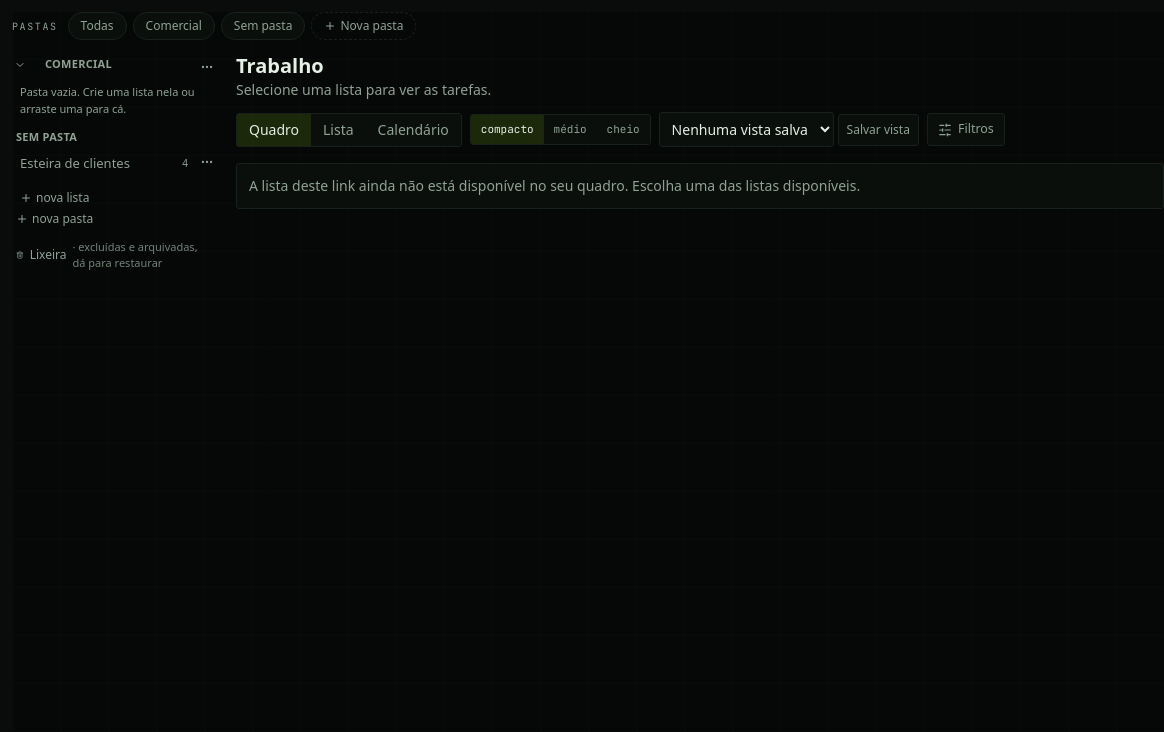
Test: trabalho importado: card único e material preservado › avisa quando a lista do link está ausente, sem abrir outra lista por engano
The width and height of the screenshot is (1164, 732).
Check: the text "A lista deste link ainda não está disponível" is shown, box [249,176,860,195]
Click the button "Esteira de clientes 4". click: coordinates (104, 163)
box: [12,150,196,177]
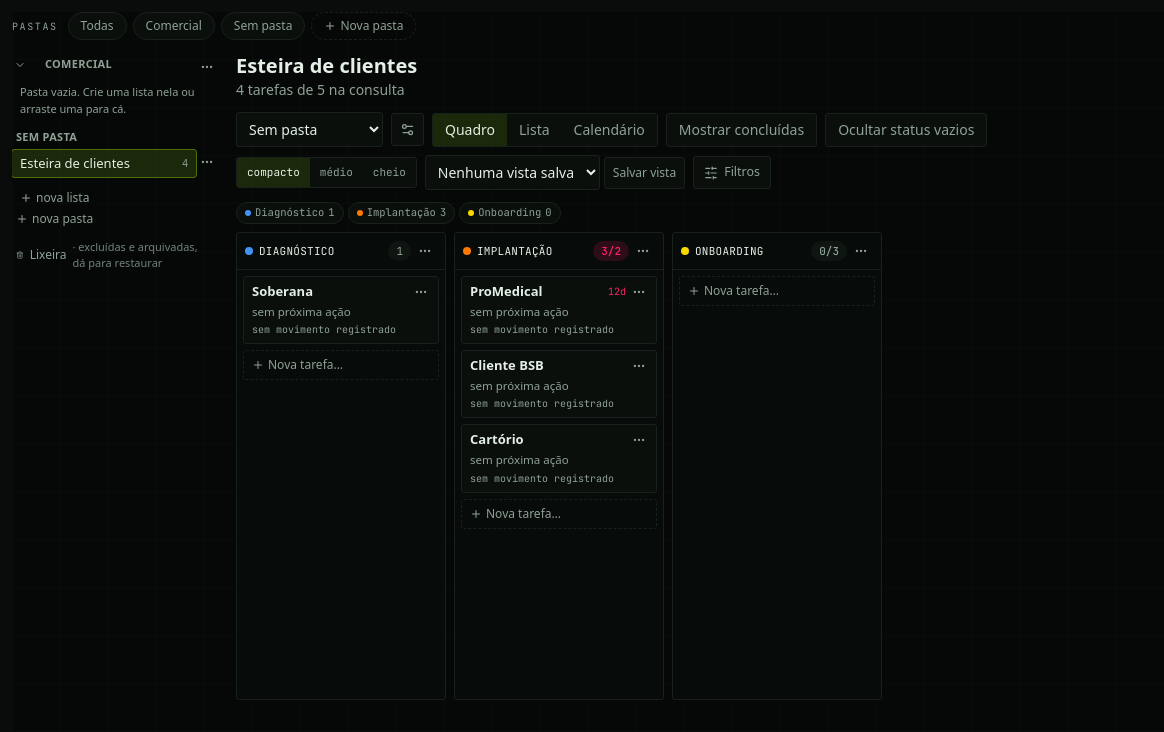
Check: the button "ProMedical" is shown, box [470,283,542,301]
Check: the text "A lista deste link ainda não está disponível" is gone
